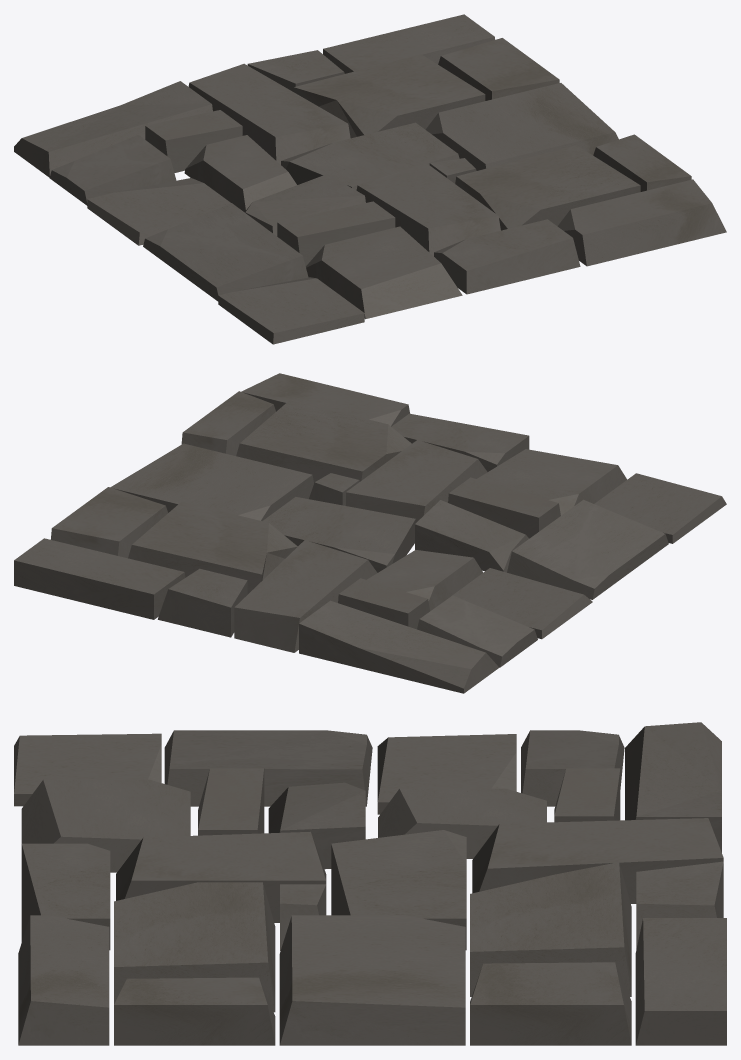
The model's file is ShiTou01 1.fbx.
3 views of the same model, one above another, from view 1: azimuth 30°, elevation 25°; view 2: azimuth 150°, elevation 25°; view 3: azimuth 270°, elevation 25° (orthographic). The views are drawn at different scales.
Parts seen in each view (by area): view 1: shitou01.001; view 2: shitou01.001; view 3: shitou01.001.
Boxes of the visible parts, x1,y1,x2,y2 form: shitou01.001: (14, 14, 726, 344); shitou01.001: (14, 373, 726, 693); shitou01.001: (14, 722, 726, 1045).
Bounding box in the file's own units: 197 × 13.86 × 198.
